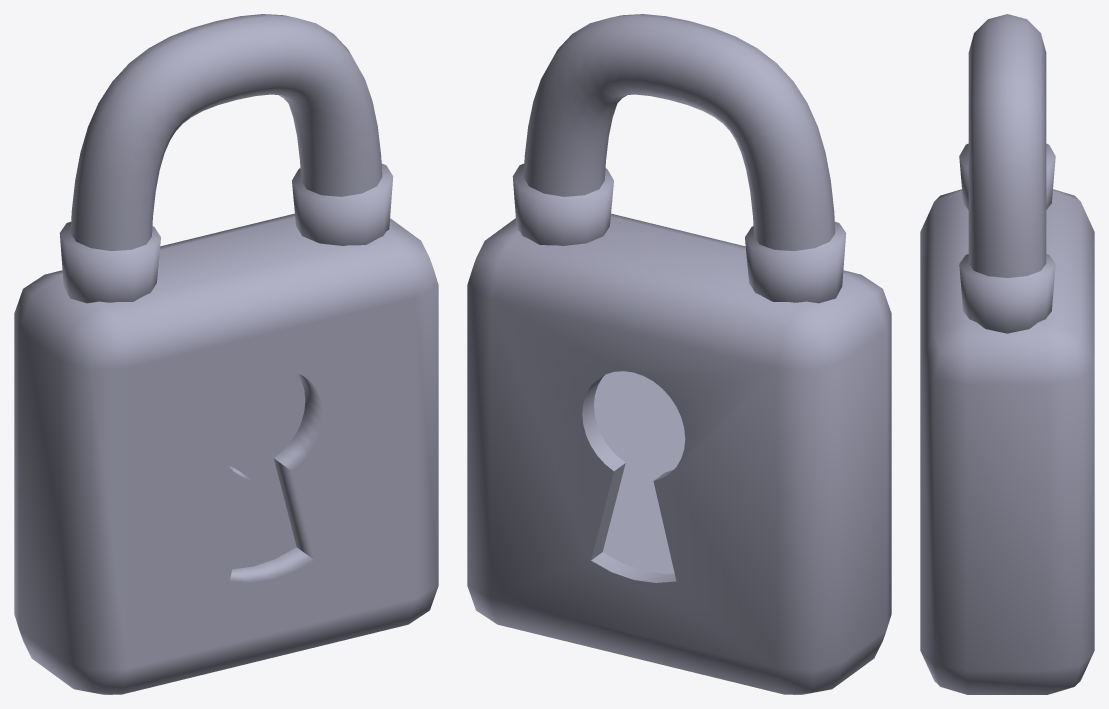
The model's file is Lock.fbx.
The picture shows the model from 3 angles, left to right: view 1: azimuth 30°, elevation 25°; view 2: azimuth 150°, elevation 25°; view 3: azimuth 270°, elevation 25°; orthographic projection. The views are drawn at different scales.
Visible parts, largest first — view 1: Lock; view 2: Lock; view 3: Lock.
Part boxes in pixels (x1,y1,x2,y2): Lock: (14, 14, 438, 694); Lock: (467, 14, 891, 694); Lock: (920, 14, 1094, 694).
Bounding box in the file's own units: 22.48 × 35.81 × 9.56.
